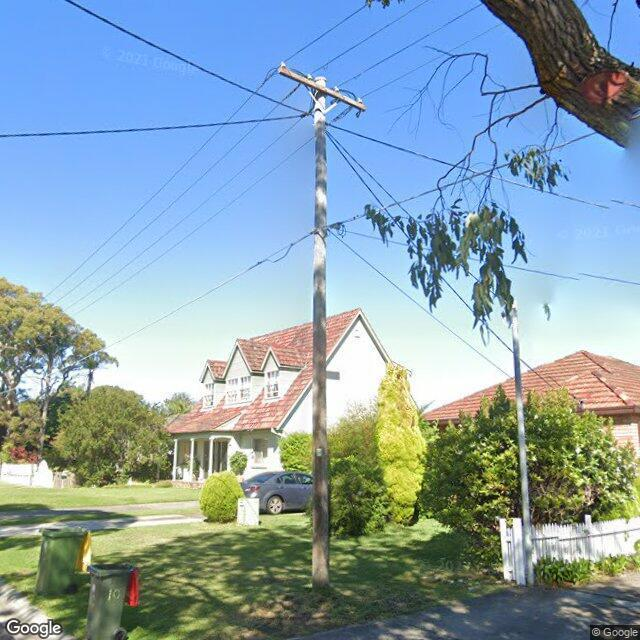crossarm: (276, 62, 366, 112)
steel-pole: (508, 296, 534, 587)
timber-pole: (312, 76, 334, 594)
